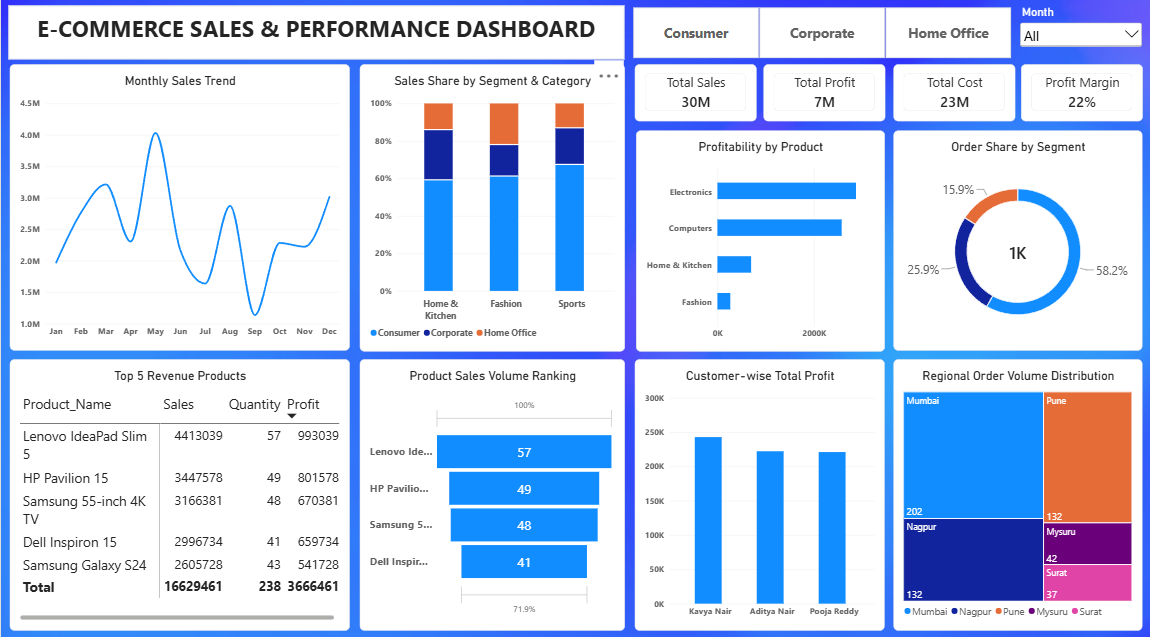

What the dashboard file says about the page in this screenshot:
{"tool":"powerbi","page":{"name":"Page 1","canvas":[1920,1080],"ordinal":0},"visuals":[{"type":"cardVisual","fields":{"Data":["Sum(Orders.Total_Sales)"]},"box":[1056.5,128.3,205,94],"z":0},{"type":"cardVisual","fields":{"Data":["Avg(Orders.Profit_Margin)"]},"box":[1713,126.1,191.3,95.7],"z":1000},{"type":"cardVisual","fields":{"Data":["Sum(Orders.Total_Cost)"]},"box":[1280.4,128.3,197.8,95.7],"z":2000},{"type":"cardVisual","fields":{"Data":["Sum(Orders.Total_Profit)"]},"box":[1500,126.1,193.5,95.7],"z":3000},{"type":"lineChart","title":"Monthly Sales Trend","fields":{"Category":["Date_Table.Month"],"Y":["Sum(Orders.Total_Sales)"]},"box":[17.4,130.4,576.1,477],"z":4000},{"type":"clusteredBarChart","title":"Profitability by Product","fields":{"Category":["Products.Category"],"Y":["Sum(Orders.Total_Profit)"]},"box":[1058.7,234.8,432.6,371.7],"z":5000},{"type":"donutChart","title":"Order Share by Segment","fields":{"Category":["Customers.Customer_Segment"],"Y":["CountNonNull(Orders.Order_ID)"]},"box":[1502.2,237,402.2,371.7],"z":6000},{"type":"clusteredColumnChart","fields":{"Category":["Customers.Customer_Name"],"Y":["Sum(Orders.Total_Profit)"]},"box":[1056.5,623.9,432.6,430.4],"z":7000},{"type":"slicer","fields":{"Values":["Date_Table.Month"]},"box":[1696.1,12.3,223.9,97.8],"z":8000},{"type":"pivotTable","title":"Top 5 Revenue Products","fields":{"Rows":["Products.Product_Name"],"Values":["Sum(Orders.Total_Sales)","Orders.Total Quantity","Sum(Orders.Total_Profit)"]},"box":[15.2,623.9,576.1,430.4],"z":9000},{"type":"hundredPercentStackedColumnChart","title":"Sales Share by Segment & Category","fields":{"Category":["Products.Category"],"Series":["Customers.Customer_Segment"],"Y":["Sum(Orders.Total_Sales)"]},"box":[606.5,128.3,434.8,478.3],"z":10000},{"type":"funnel","title":"Product Sales Volume Ranking","fields":{"Category":["Products.Product_Name"],"Y":["Orders.Total Quantity"]},"box":[606.7,624.4,435.6,428.9],"z":11000},{"type":"treemap","title":"Regional Order Volume Distribution","fields":{"Group":["Customers.City"],"Values":["Sum(Orders.Quantity)"]},"box":[1500,623.9,408.7,430.4],"z":12000},{"type":"slicer","fields":{"Values":["Customers.Customer_Segment"]},"box":[1033.3,4.2,671.7,97.8],"z":13000},{"type":"textbox","box":[12.5,12.5,1027.1,89.6],"z":16000}]}

Visuals, with their boxes in screenshot pixels (x1, y1, x2, y2), scaled from the page's 1920x1080 canvas onto the 1150x637 screenshot:
cardVisual - Sum(Orders.Total_Sales): (x1=633, y1=76, x2=756, y2=131)
cardVisual - Avg(Orders.Profit_Margin): (x1=1026, y1=74, x2=1141, y2=131)
cardVisual - Sum(Orders.Total_Cost): (x1=767, y1=76, x2=885, y2=132)
cardVisual - Sum(Orders.Total_Profit): (x1=898, y1=74, x2=1014, y2=131)
"Monthly Sales Trend" lineChart: (x1=10, y1=77, x2=355, y2=358)
"Profitability by Product" clusteredBarChart: (x1=634, y1=138, x2=893, y2=358)
"Order Share by Segment" donutChart: (x1=900, y1=140, x2=1141, y2=359)
clusteredColumnChart - Customers.Customer_Name x Sum(Orders.Total_Profit): (x1=633, y1=368, x2=892, y2=622)
slicer - Date_Table.Month: (x1=1016, y1=7, x2=1149, y2=65)
"Top 5 Revenue Products" pivotTable: (x1=9, y1=368, x2=354, y2=622)
"Sales Share by Segment & Category" hundredPercentStackedColumnChart: (x1=363, y1=76, x2=624, y2=358)
"Product Sales Volume Ranking" funnel: (x1=363, y1=368, x2=624, y2=621)
"Regional Order Volume Distribution" treemap: (x1=898, y1=368, x2=1143, y2=622)
slicer - Customers.Customer_Segment: (x1=619, y1=2, x2=1021, y2=60)
textbox: (x1=7, y1=7, x2=623, y2=60)
